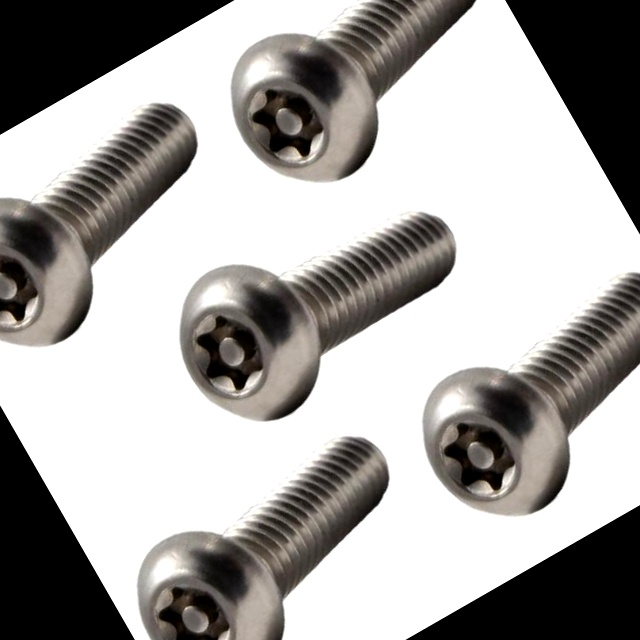torx: (202, 3, 404, 216), (393, 338, 592, 549), (149, 240, 346, 450), (110, 503, 307, 640), (0, 168, 113, 377)
